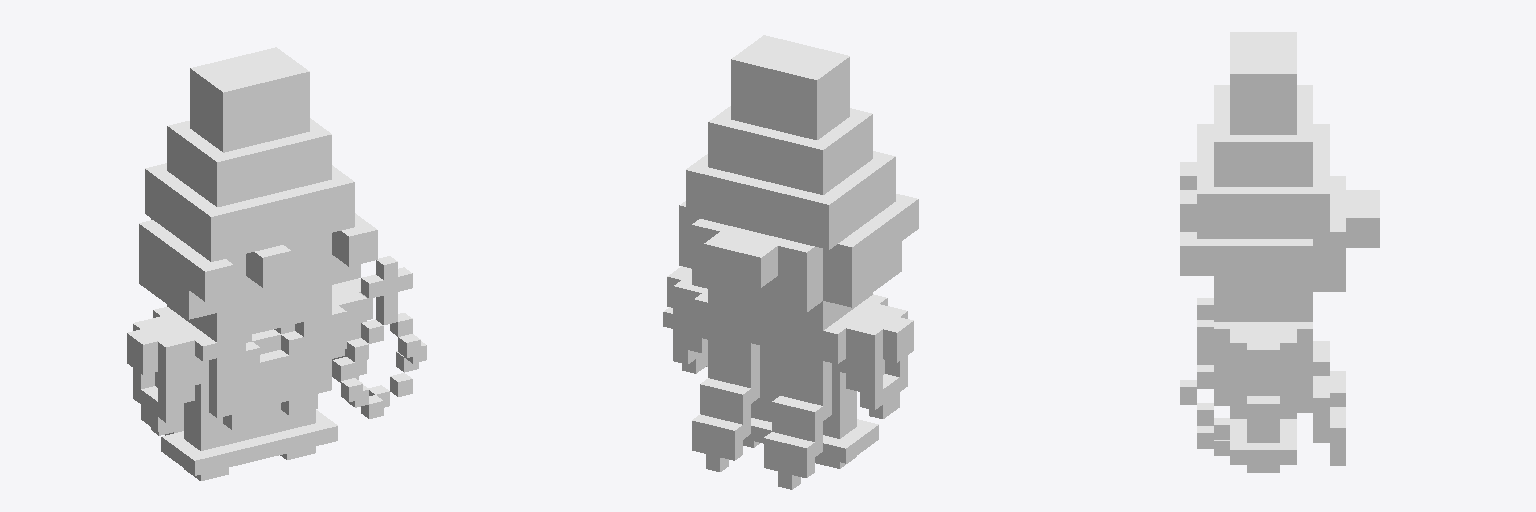
File: character_cleric.obj
3 renders of one model, left to right at view 1: azimuth 30°, elevation 25°; view 2: azimuth 150°, elevation 25°; view 3: azimuth 270°, elevation 25°, orthographic.
Size of the model in its own units: 18 by 26 by 12.